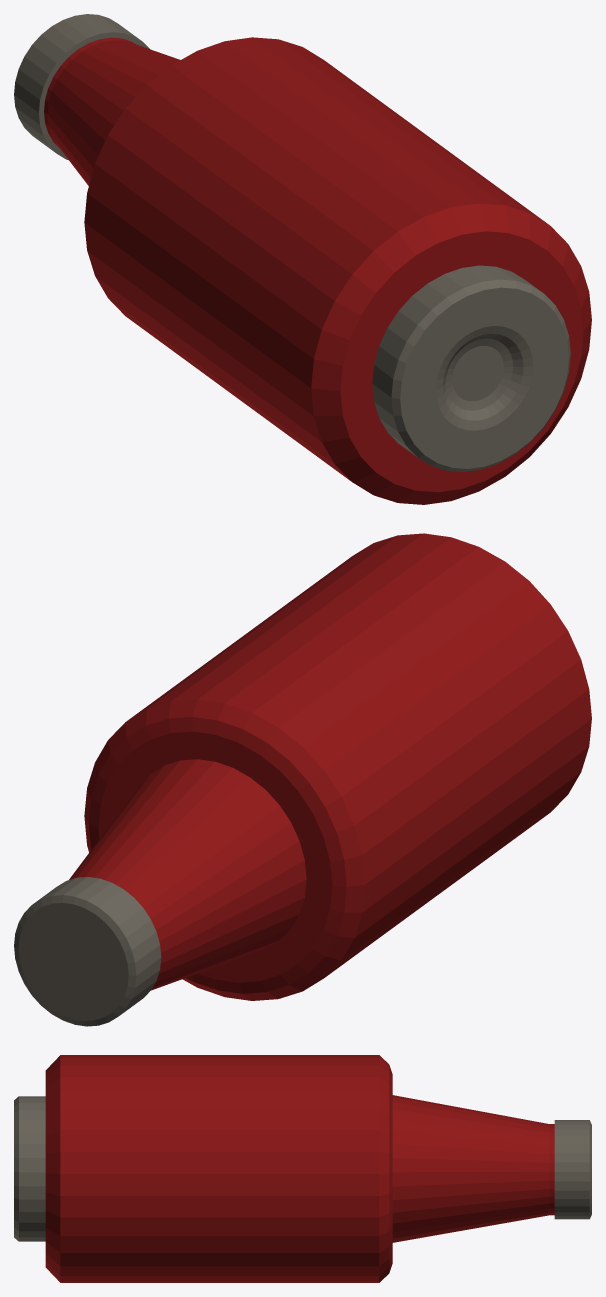
The model's file is fuse-dummy.fbx.
3 views of the same model, one above another, from view 1: azimuth 30°, elevation 25°; view 2: azimuth 150°, elevation 25°; view 3: azimuth 270°, elevation 25° (orthographic). The views are drawn at different scales.
Visible parts, largest first — view 1: Fuse; view 2: Fuse; view 3: Fuse.
Part boxes in pixels (left/top/right/bottom): Fuse: left=14, top=14, right=591, bottom=504; Fuse: left=14, top=533, right=591, bottom=1026; Fuse: left=14, top=1055, right=591, bottom=1282.
Bounding box in the file's own units: 200 × 200 × 507.
